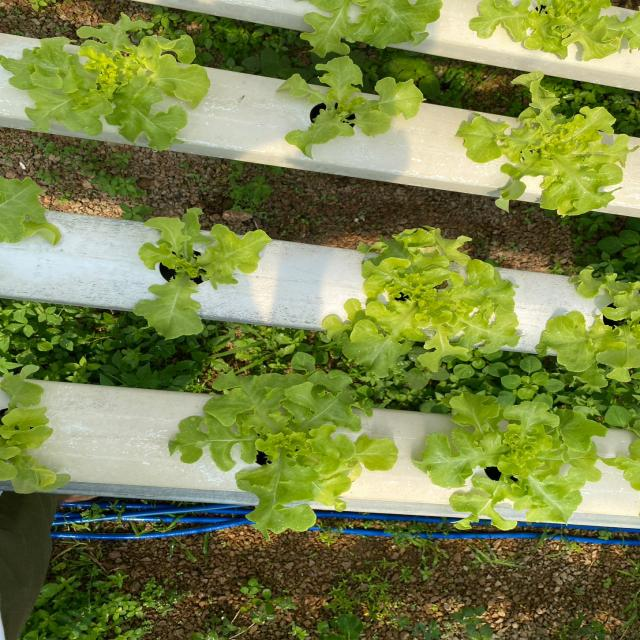Lettuce-Not-Ready-to-Harvest: (168, 361, 400, 544), (420, 380, 614, 551), (449, 60, 640, 225), (332, 226, 537, 378), (0, 17, 210, 161), (121, 205, 276, 343), (268, 51, 430, 158)
